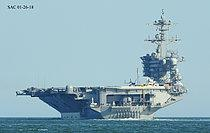MIL_Ship: (16, 12, 189, 120)
